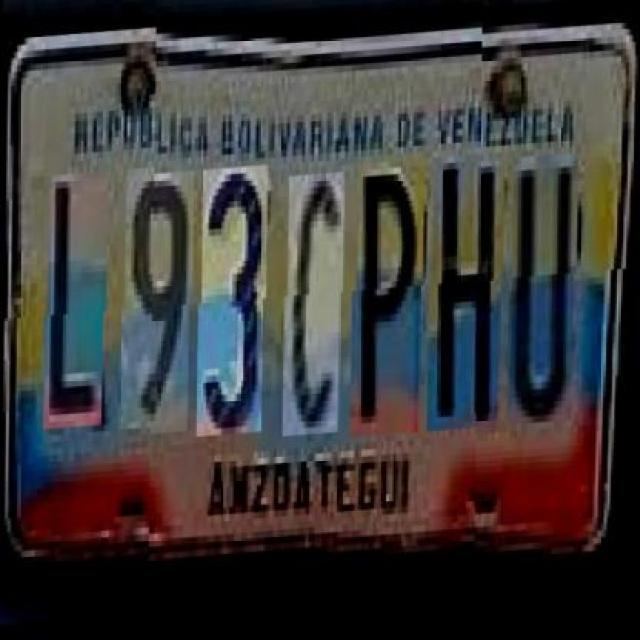3: (202, 169, 269, 440)
9: (124, 175, 194, 438)
c: (286, 177, 346, 441)
h: (432, 160, 506, 438)
l: (47, 180, 108, 437)
p: (354, 159, 426, 444)
u: (511, 156, 578, 427)
